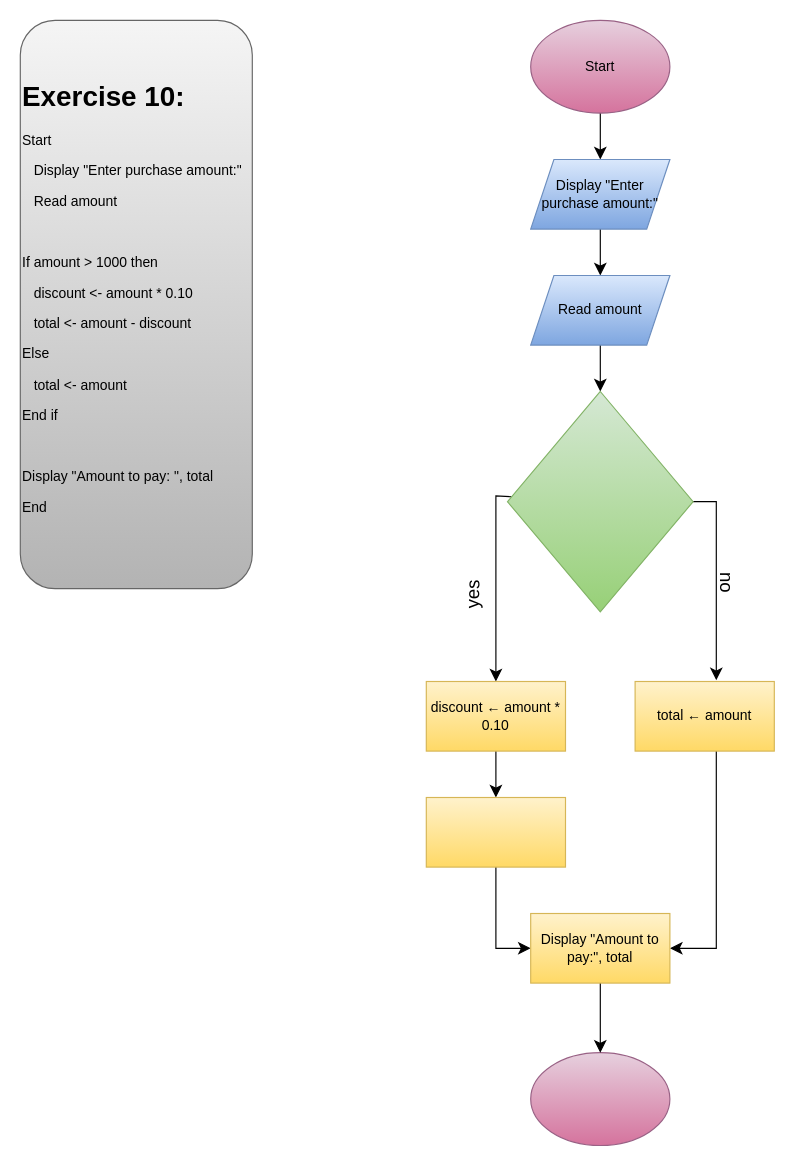
Some shapes in this 795 by 1166 pixel diagram are drawn without their labels. The shapes that lost their labels are listed below. From the top down, each one's centre as x and y in pixels, then its label:
At (599,501): "Is amount > 1000 ?".
At (495,831): "total ← amount - discount".
At (600,1099): "End".
